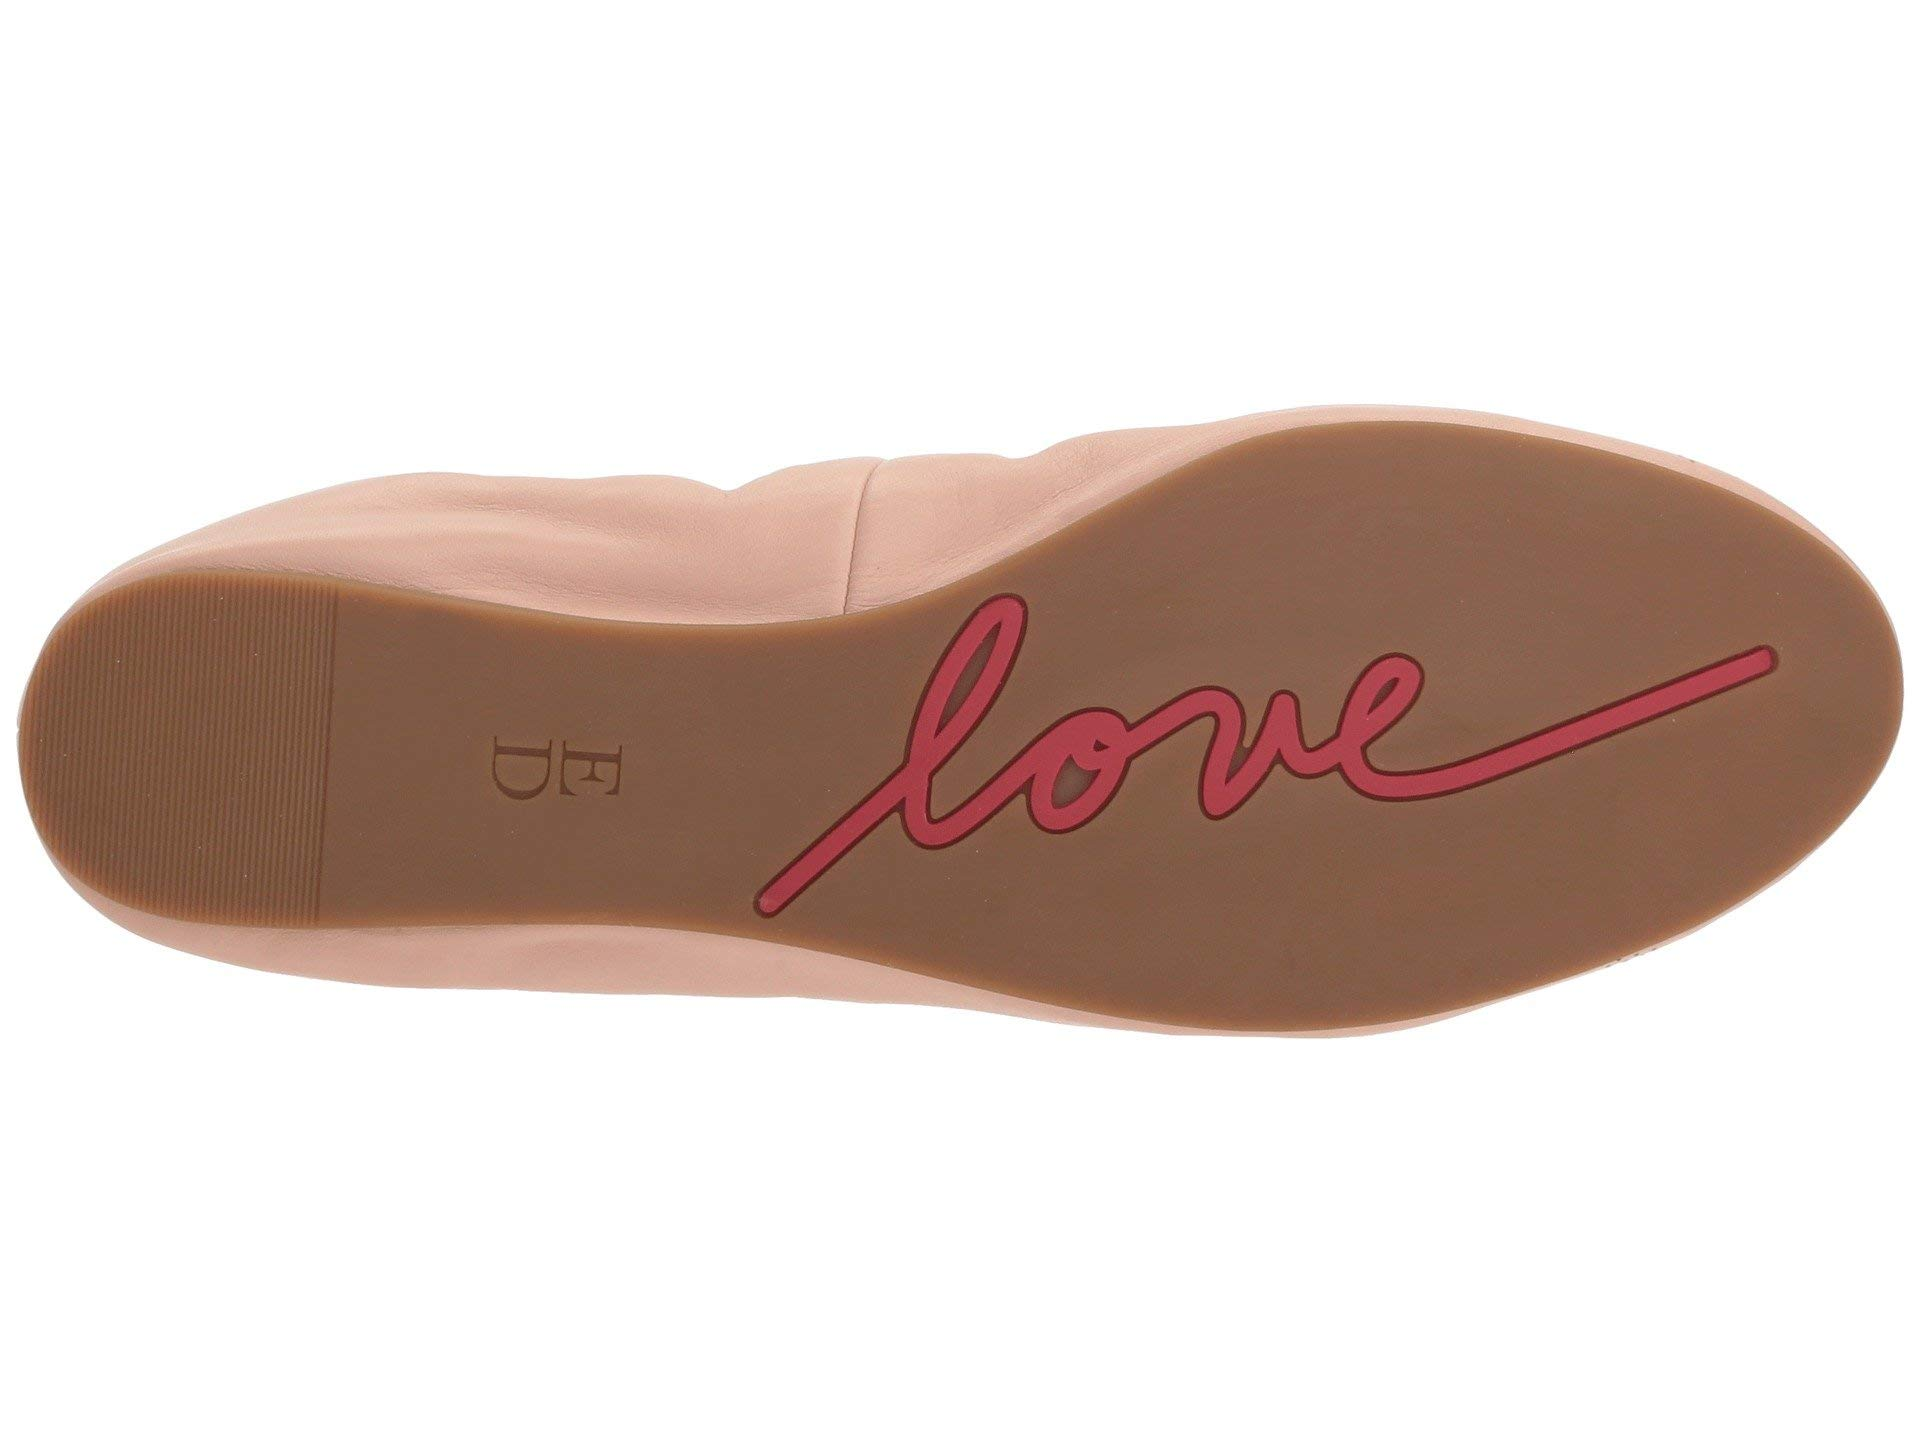line: (104, 647, 289, 858)
text: (745, 610, 1550, 911), (478, 712, 655, 843)
